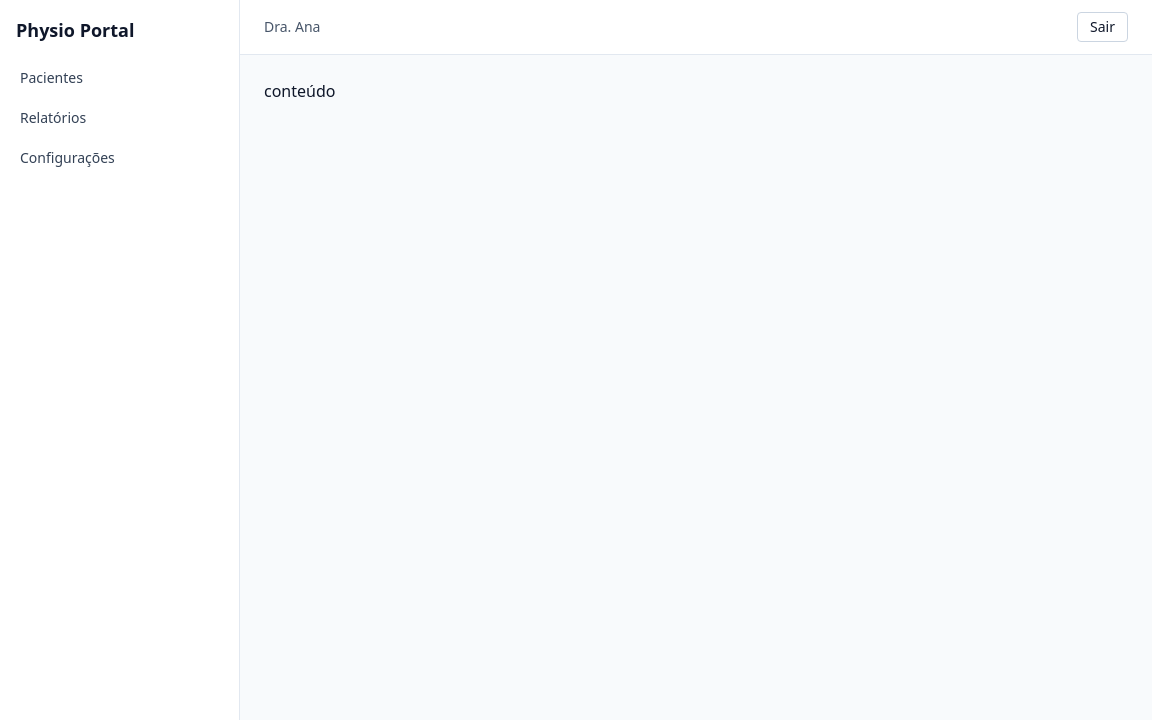
Scenario: Layout › navigates between sections via the sidebar
The image size is (1152, 720).
Expected: the text "Dra. Ana" is shown, [264, 17, 320, 37]
Click the link "Pacientes": (51, 78) [20, 68, 83, 87]
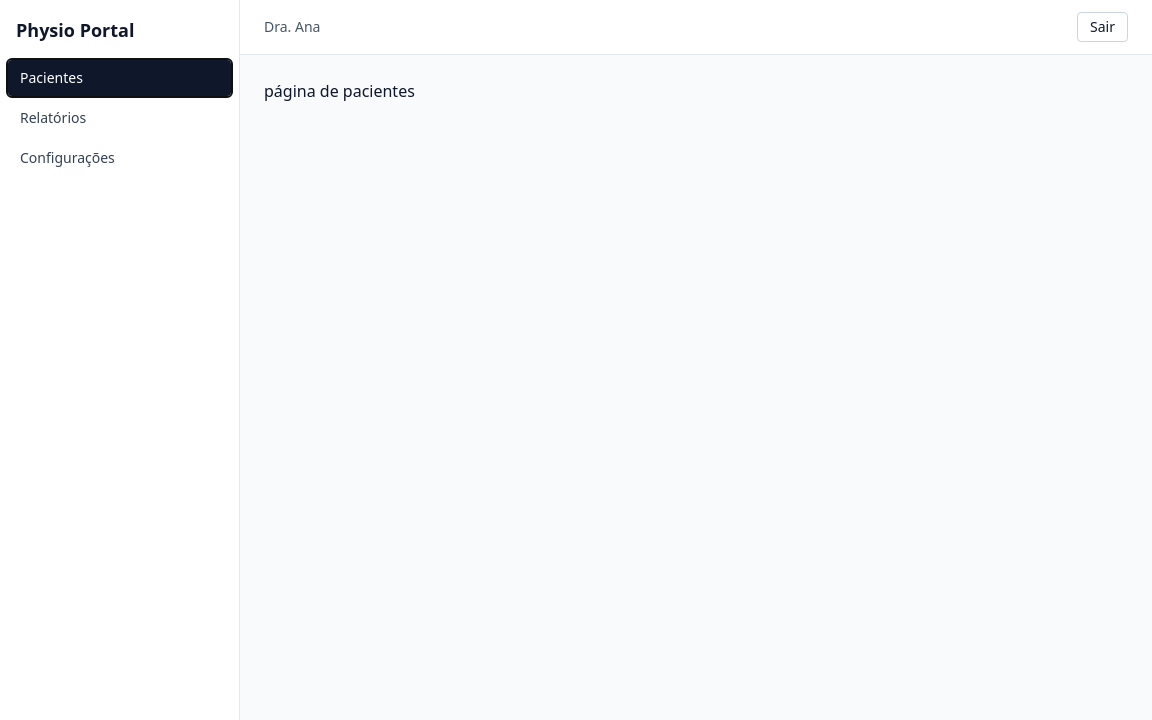
Expected: the text "página de pacientes" is shown, [264, 80, 415, 102]
Click the link "Relatórios": (53, 118) [20, 108, 86, 127]
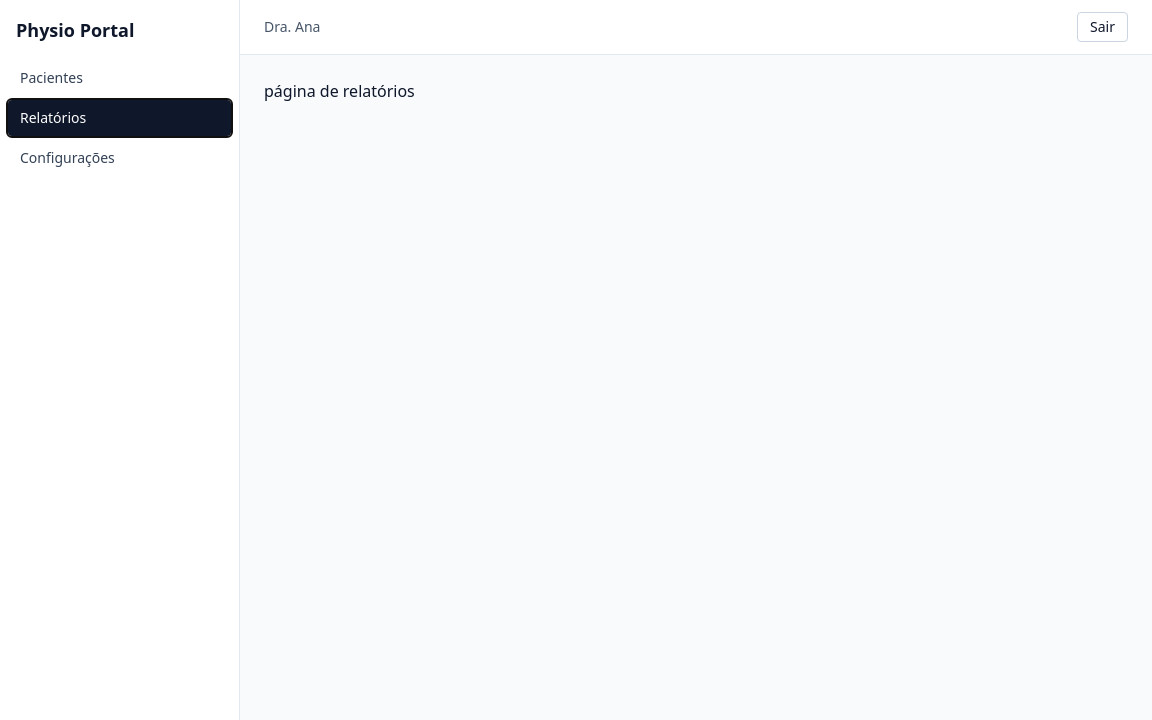
Expected: the text "página de relatórios" is shown, [264, 80, 415, 102]
